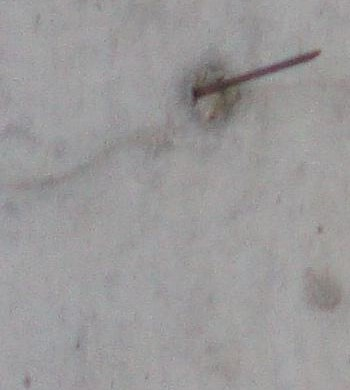Exposed reinforcement: (191, 48, 322, 100)
Spalling: (182, 61, 244, 128)
